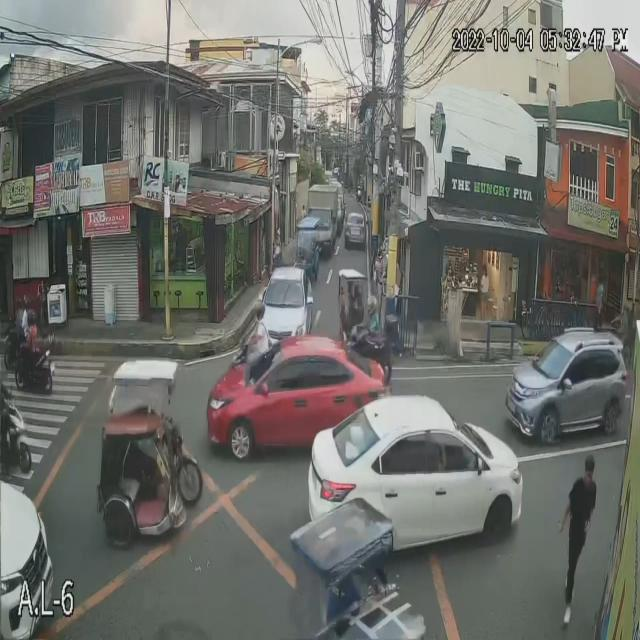Full-Faced: (252, 296, 267, 324), (368, 293, 379, 321), (24, 311, 38, 325), (19, 293, 26, 305)
